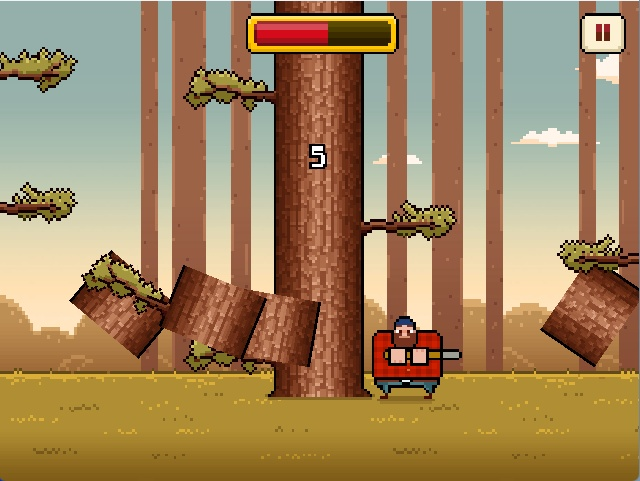left_obs: (180, 61, 277, 118)
right_obs: (360, 196, 459, 244)
timberman: (369, 310, 464, 405)
